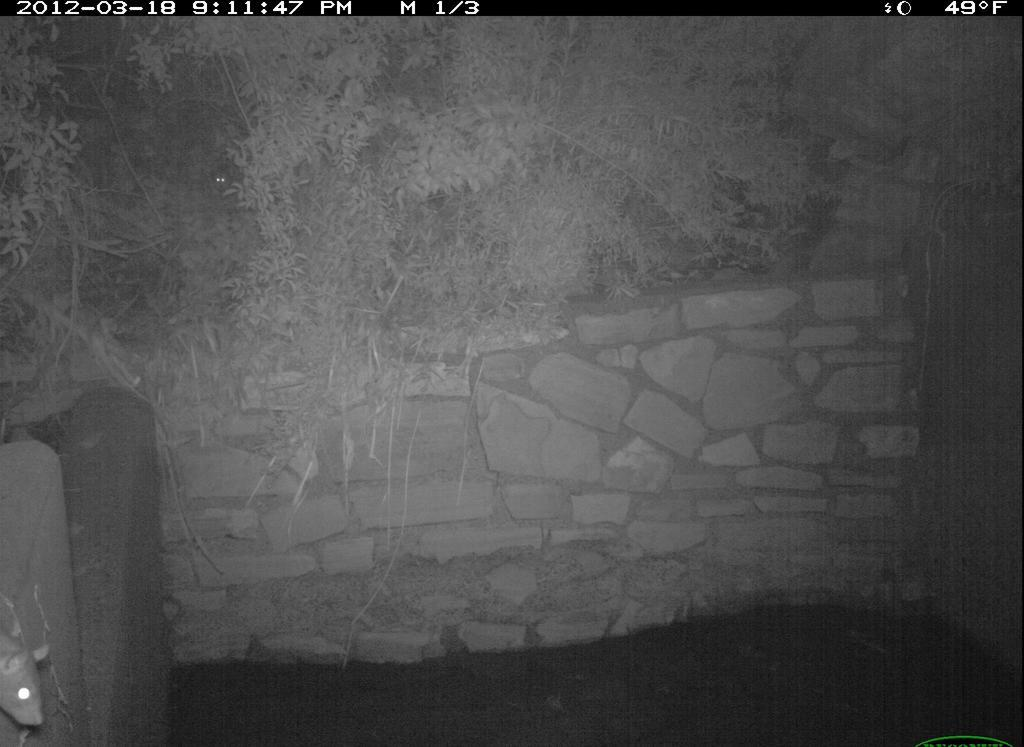rodent: (2, 620, 57, 738)
